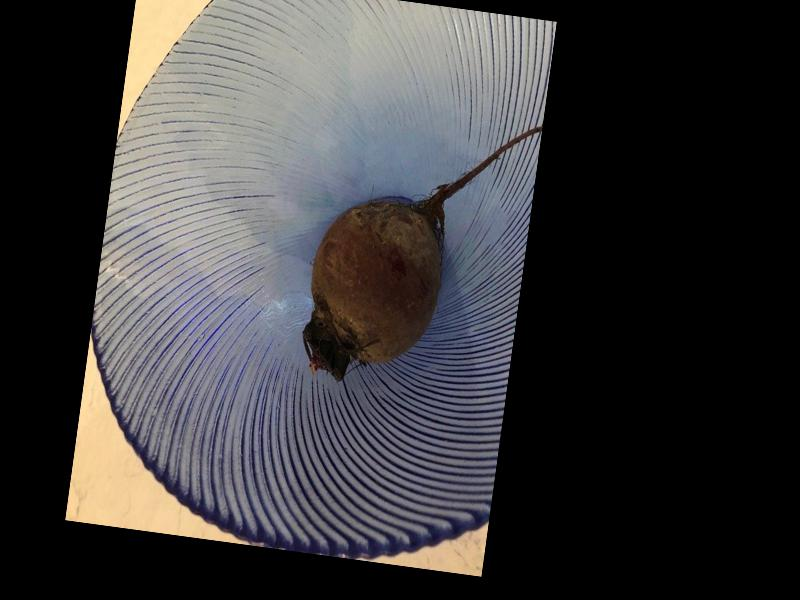Beet: (298, 99, 542, 402)
